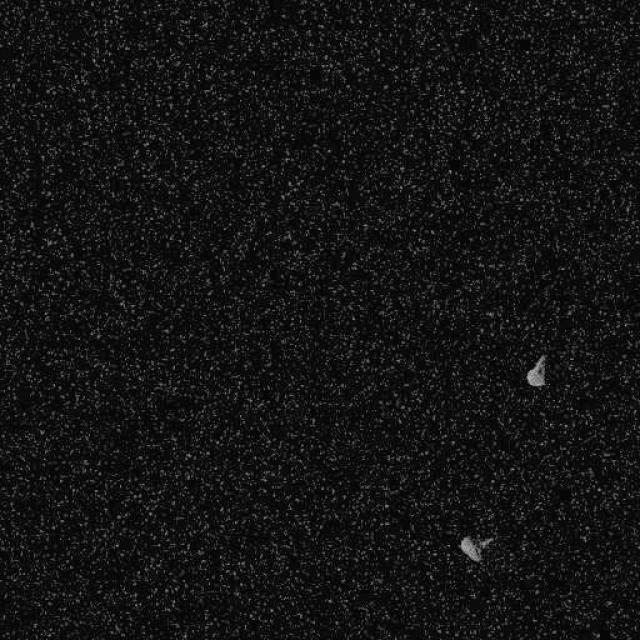D2: (525, 352, 546, 388), (458, 535, 482, 563)
